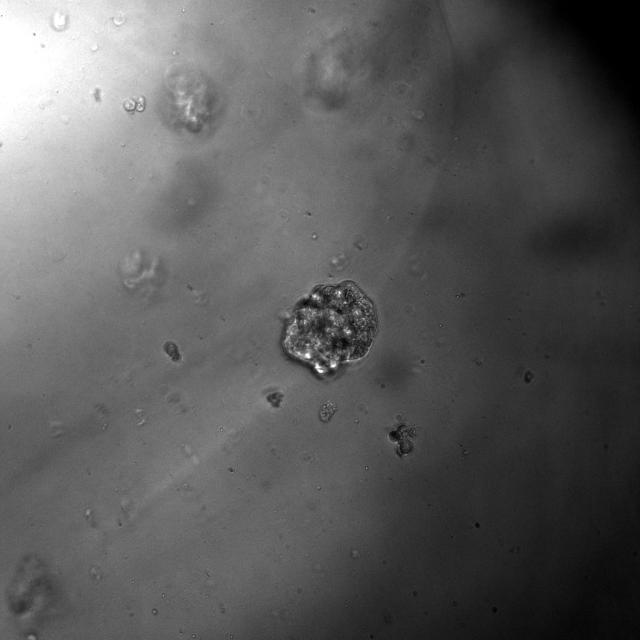organoid: (282, 280, 378, 377), (389, 422, 418, 457), (163, 341, 182, 363), (319, 400, 337, 422), (123, 96, 146, 111), (266, 391, 283, 408)
